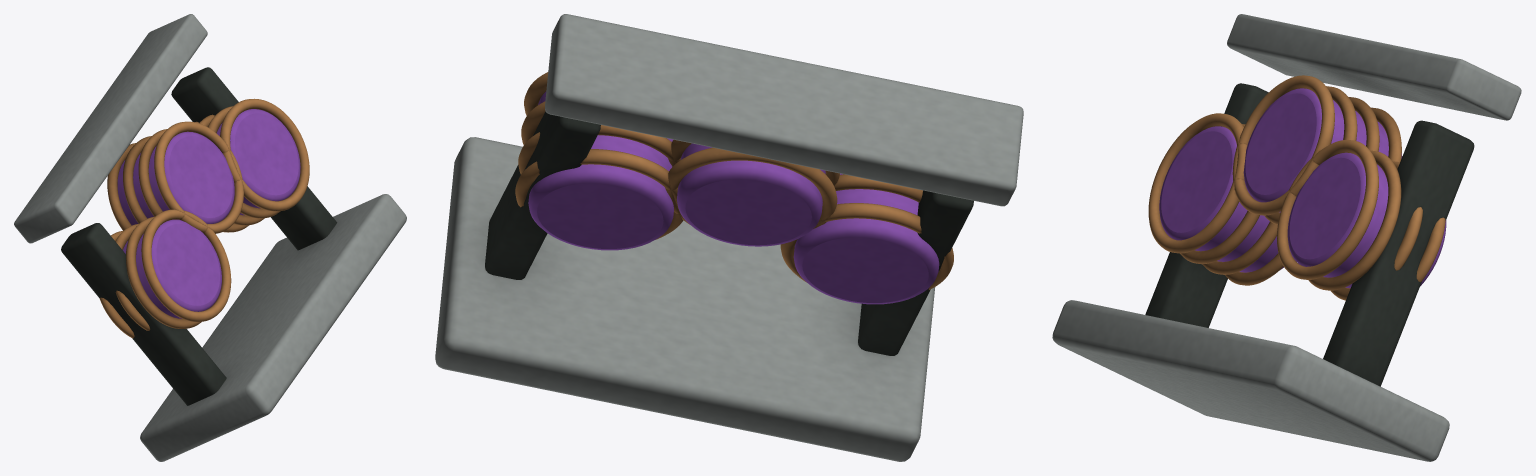
3 renders of one model, left to right at view 1: azimuth 30°, elevation 25°; view 2: azimuth 150°, elevation 25°; view 3: azimuth 270°, elevation 25°, orthographic. The views are drawn at different scales.
Visible parts, largest first — view 1: Bolted mechanical base; view 2: Bolted mechanical base; view 3: Bolted mechanical base.
Boxes of the visible parts, left/top/right/bottom form: Bolted mechanical base: left=14, top=14, right=406, bottom=461; Bolted mechanical base: left=435, top=14, right=1023, bottom=461; Bolted mechanical base: left=1052, top=14, right=1521, bottom=461.
Size of the model in its own units: 1.53 by 1.3 by 1.27.
1 material, 1 textured.
